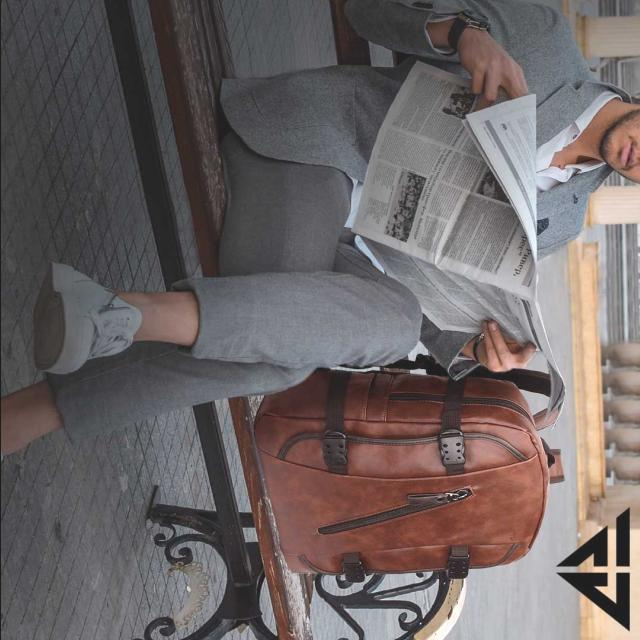backpack: (253, 357, 567, 580)
